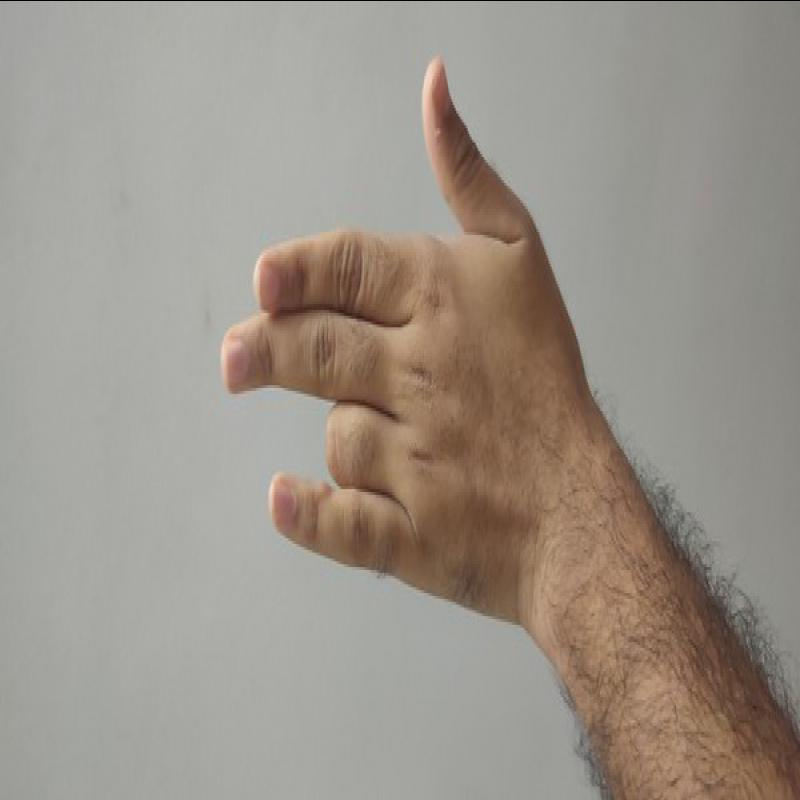Pathaaka: (204, 42, 589, 635)
